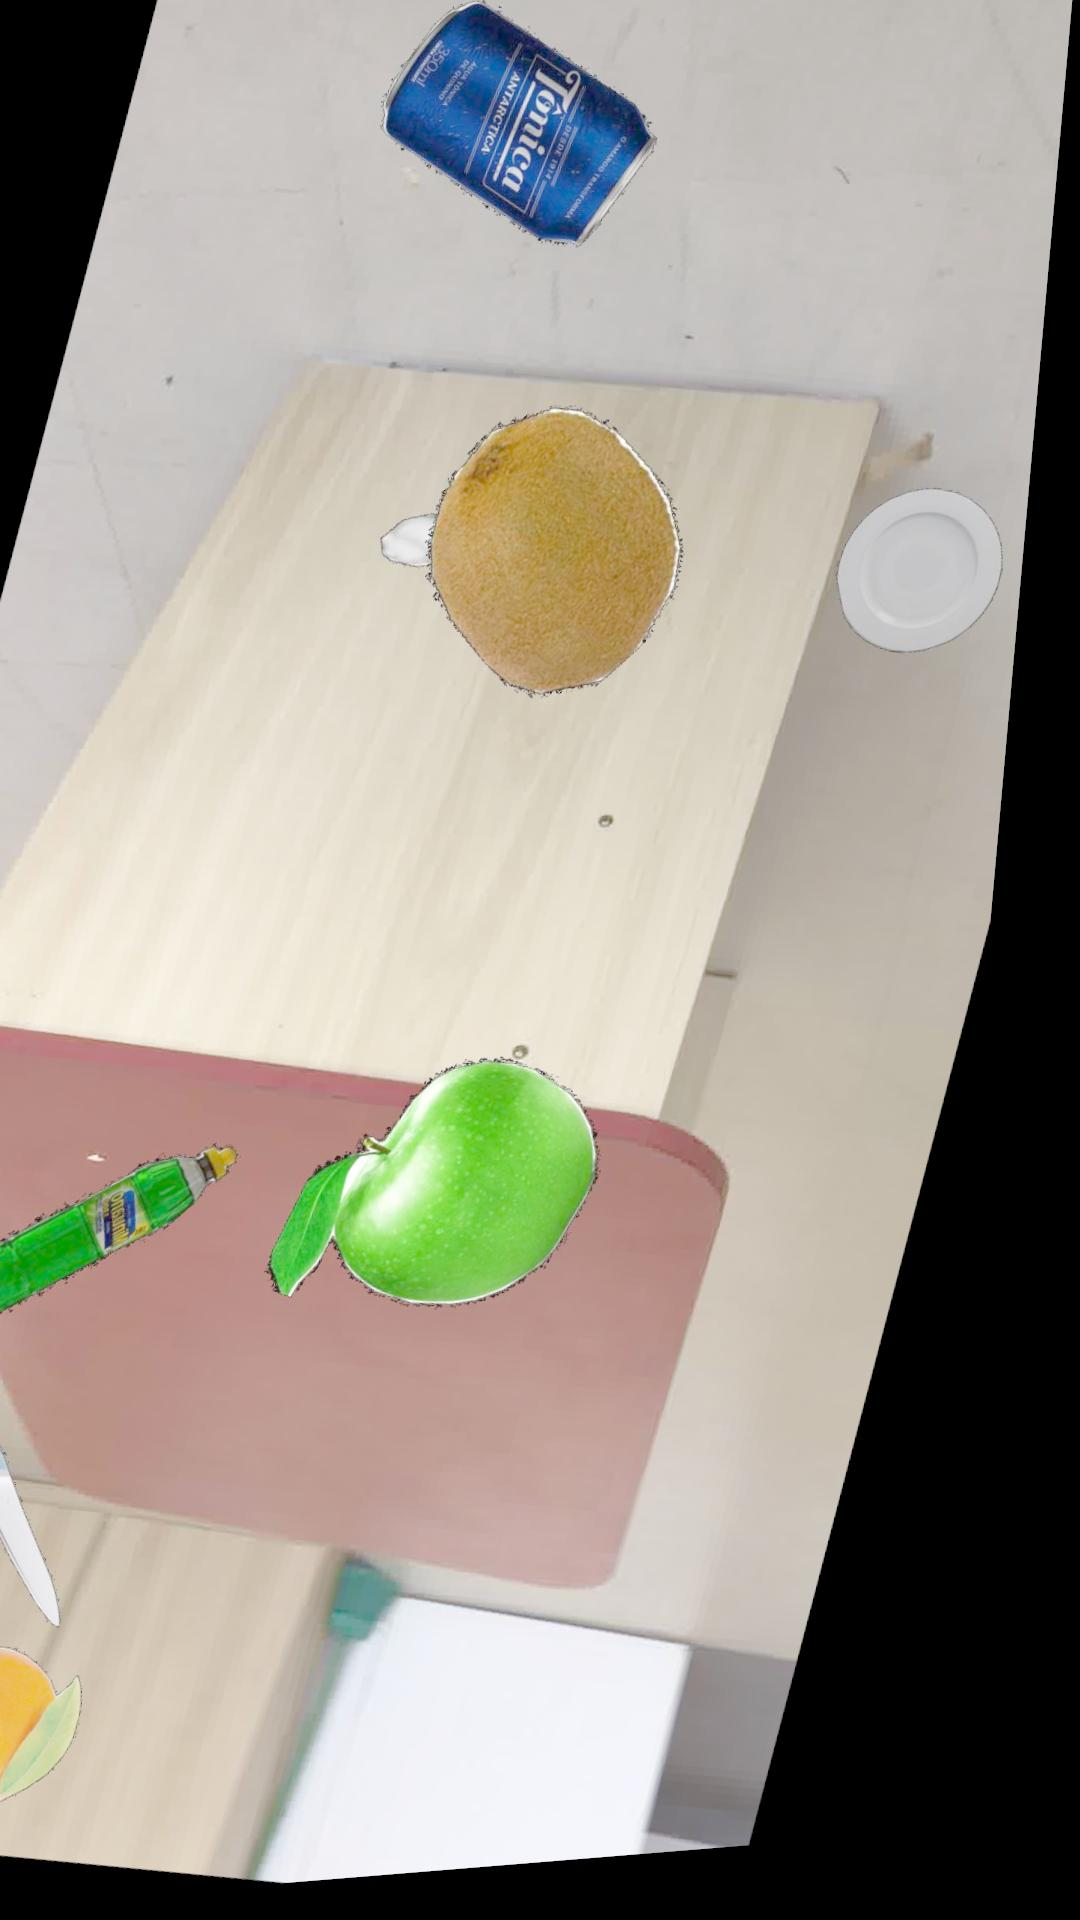cleaner: (0, 1151, 258, 1329)
green apple: (287, 1069, 620, 1319)
kiwi: (436, 418, 692, 708)
knife: (0, 1410, 90, 1633)
orange: (0, 1650, 113, 1825)
plate: (847, 506, 1013, 671)
spoon: (390, 524, 446, 576)
tonic: (384, 11, 659, 258)
